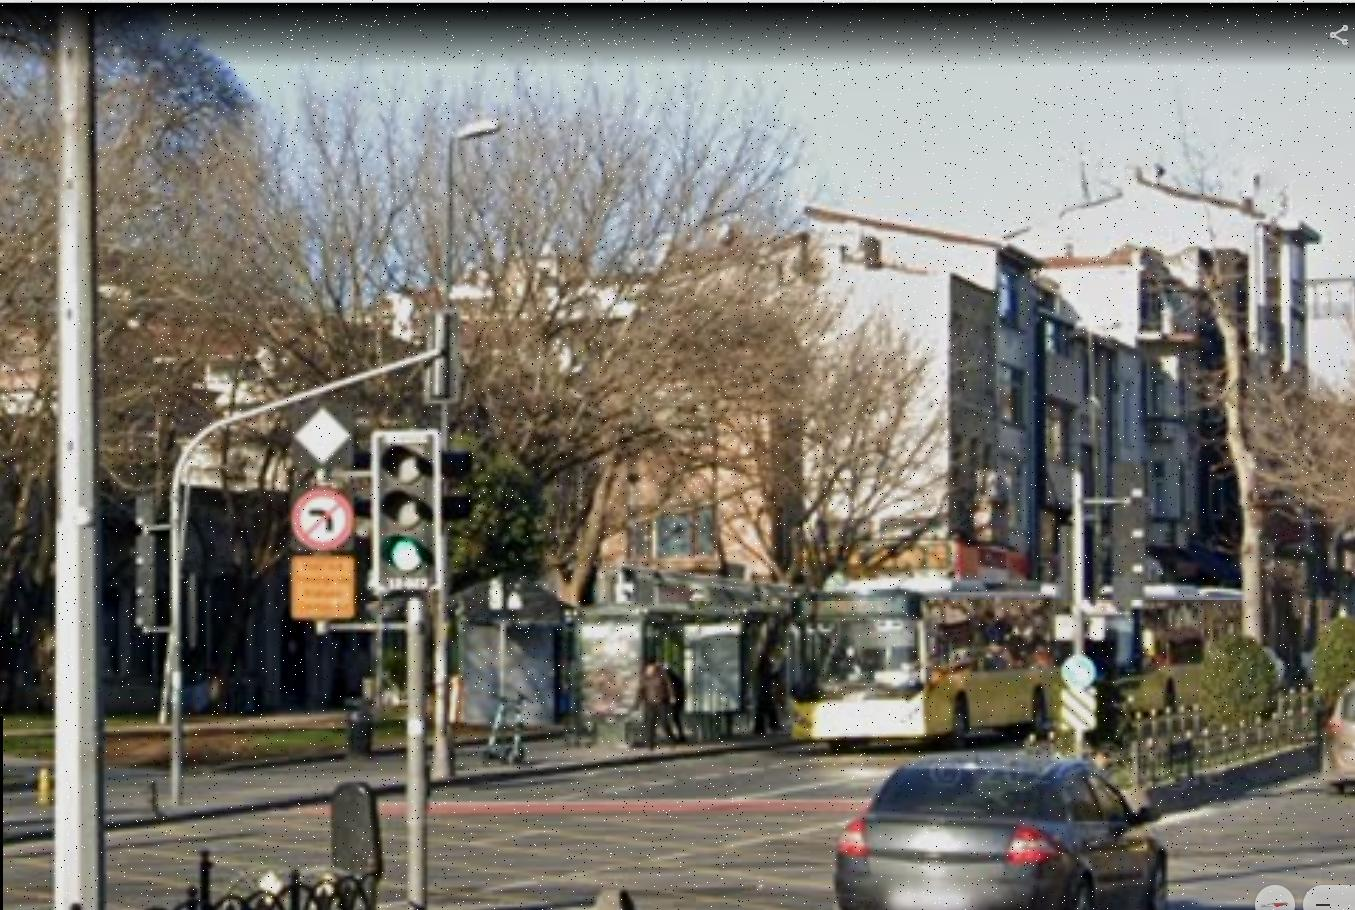greenlight: (372, 439, 442, 585)
leftturnsareforbidden: (292, 495, 364, 541)
